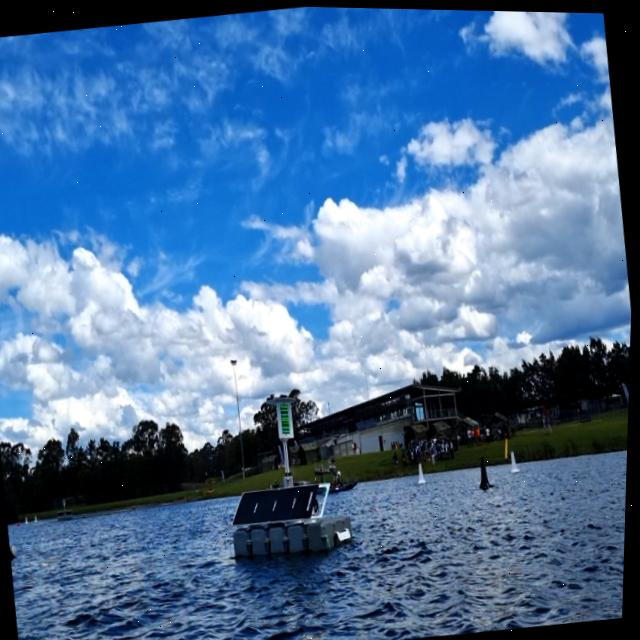led: (278, 399, 296, 436)
